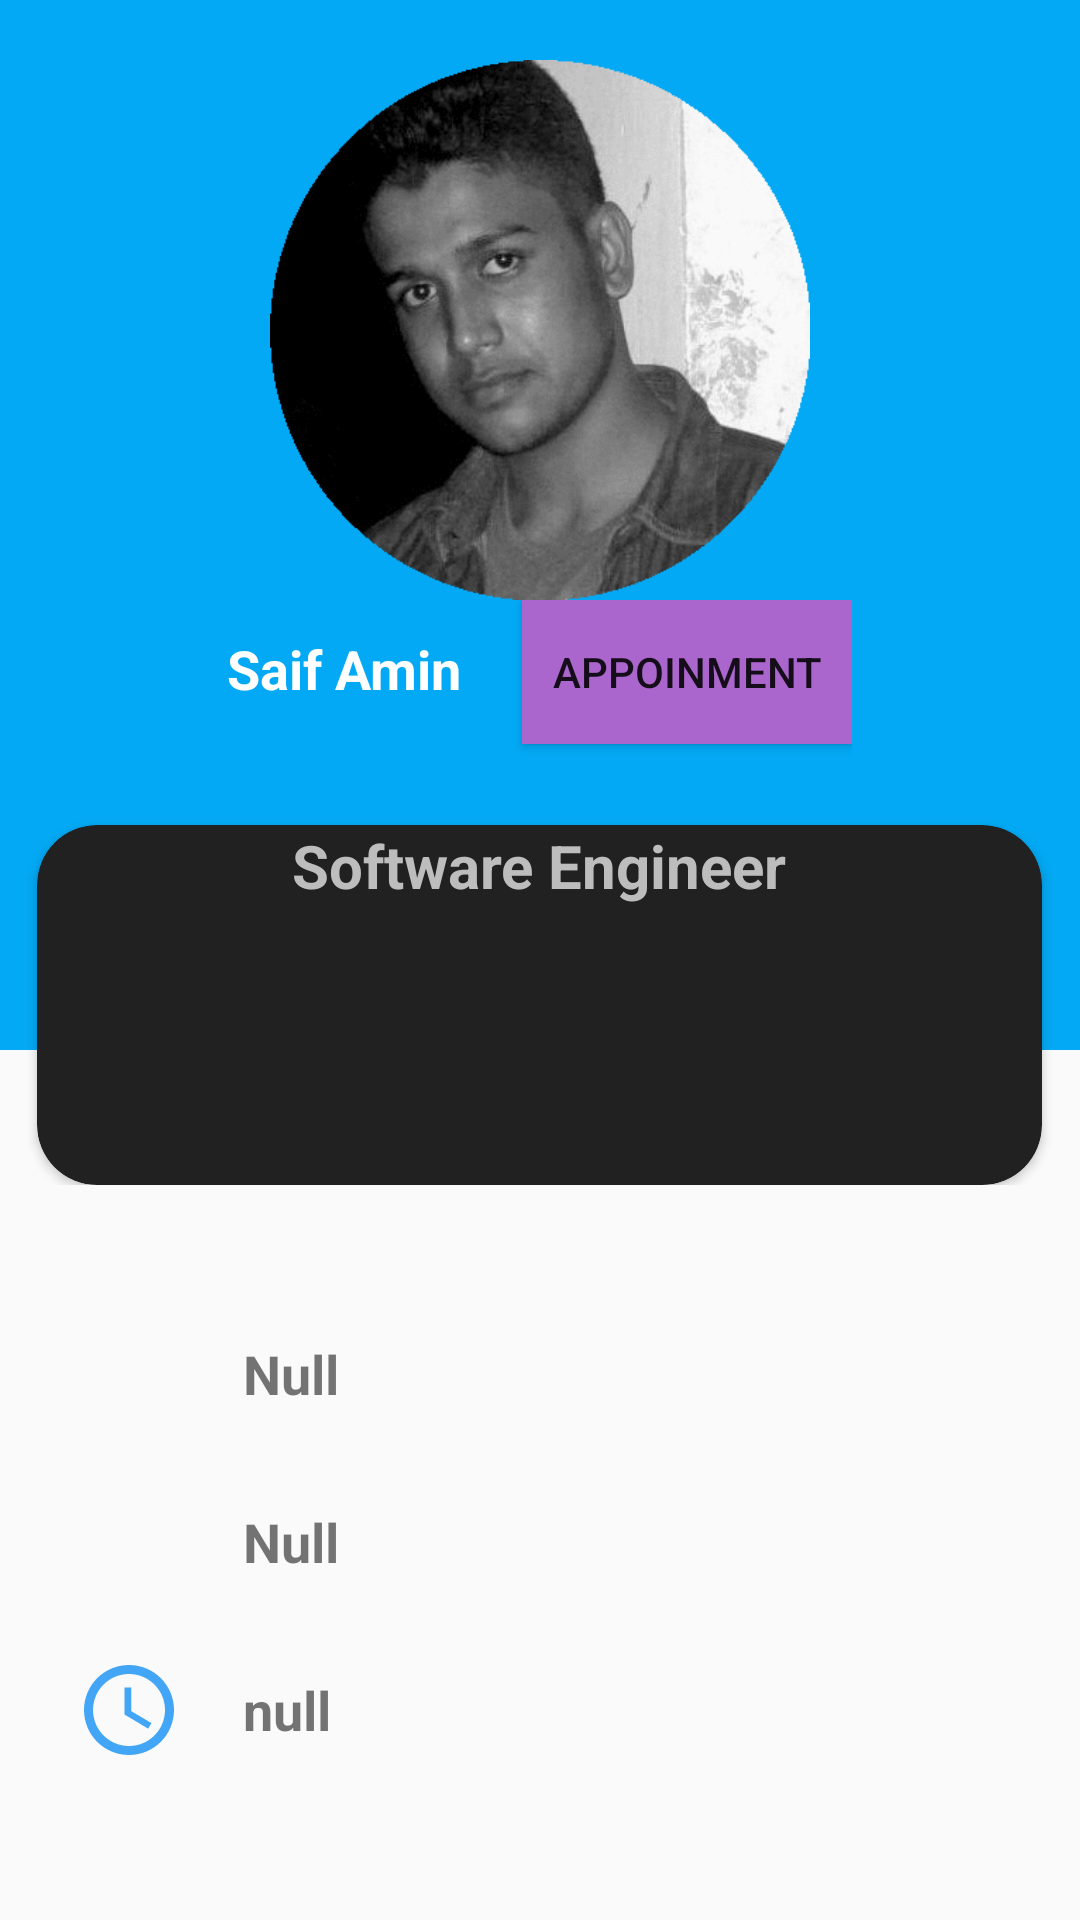

Icon click points for this 1080×1920 phone screenshot, format (x,y):
schedule: (129,1710)
